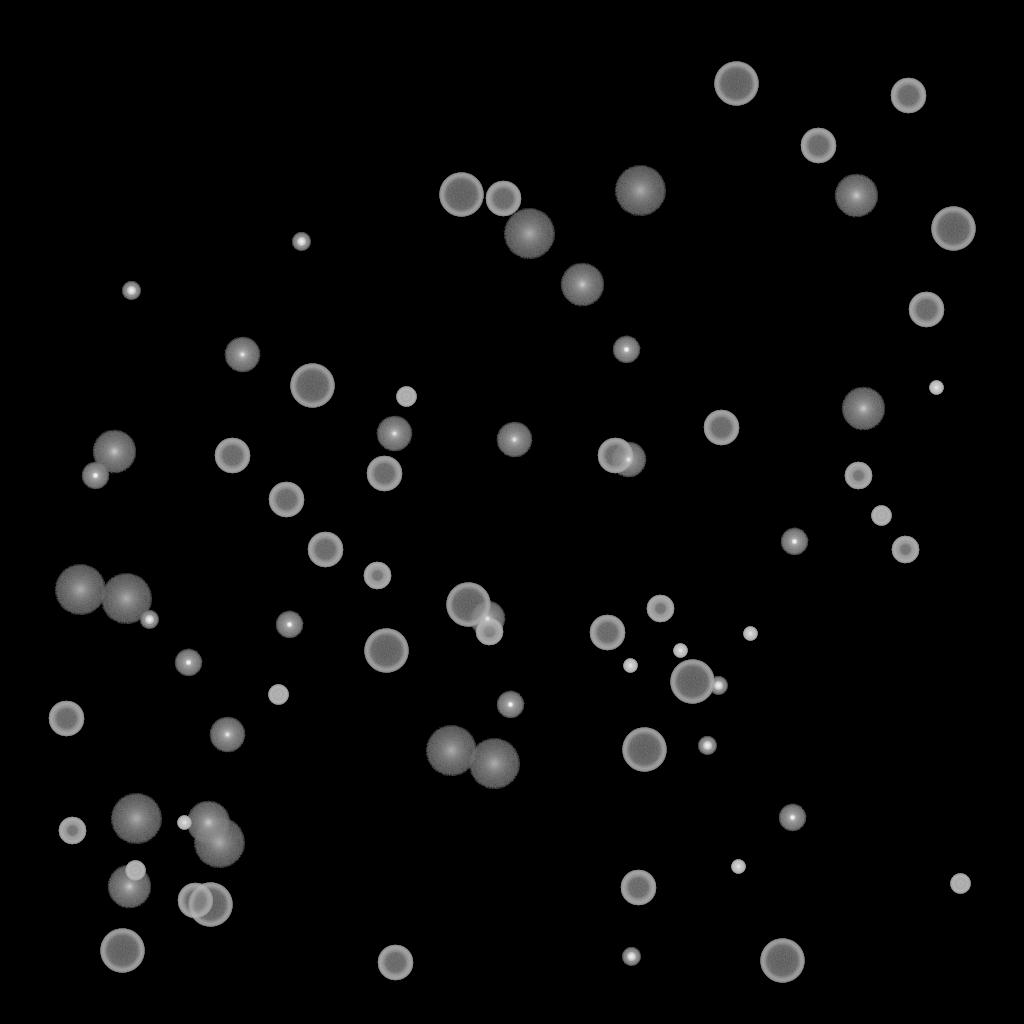depth:-10: (174, 649, 202, 677), (780, 528, 808, 556), (275, 611, 303, 639), (496, 691, 524, 719), (612, 336, 640, 364), (81, 462, 109, 490), (778, 804, 806, 832)
depth:-20: (622, 948, 640, 966), (709, 677, 727, 695), (698, 737, 716, 755), (122, 282, 140, 300), (140, 611, 158, 629), (292, 233, 310, 251)
depth:-30: (623, 659, 637, 673), (673, 644, 687, 658), (743, 627, 757, 641), (731, 860, 745, 874), (929, 381, 943, 395), (177, 816, 191, 830)
depth:-40: (396, 387, 416, 407), (871, 506, 891, 526), (268, 685, 288, 705), (125, 861, 145, 881), (950, 874, 970, 894)
depth:-50: (58, 817, 86, 845), (475, 618, 503, 646), (363, 562, 391, 590), (891, 536, 919, 564), (844, 462, 872, 490), (646, 595, 674, 623)
depth:-60: (268, 482, 304, 518), (908, 292, 944, 328), (48, 701, 84, 737), (485, 181, 521, 217), (703, 410, 739, 446), (620, 870, 656, 906), (377, 945, 413, 981), (800, 128, 836, 164), (366, 456, 402, 492), (597, 438, 633, 474), (589, 615, 625, 651), (890, 78, 926, 114), (214, 438, 250, 474), (177, 883, 213, 919), (307, 532, 343, 568)
depth:-70: (931, 207, 975, 251), (446, 583, 490, 627), (760, 939, 804, 983), (364, 629, 408, 673), (100, 929, 144, 973), (439, 173, 483, 217), (670, 660, 714, 704), (290, 364, 334, 408), (714, 62, 758, 106), (622, 728, 666, 772), (188, 883, 232, 927)
depth:0: (376, 416, 412, 452), (209, 717, 245, 753), (224, 337, 260, 373), (469, 601, 505, 637), (610, 442, 646, 478), (496, 422, 532, 458)
depth:10: (834, 174, 878, 218), (560, 263, 604, 307), (107, 865, 151, 909), (841, 387, 885, 431), (186, 801, 230, 845), (92, 430, 136, 474)
depth:20: (54, 565, 106, 615), (193, 818, 245, 868), (503, 209, 555, 259), (614, 166, 666, 216), (110, 794, 162, 844), (425, 726, 477, 776), (100, 574, 152, 624), (468, 739, 520, 789)
